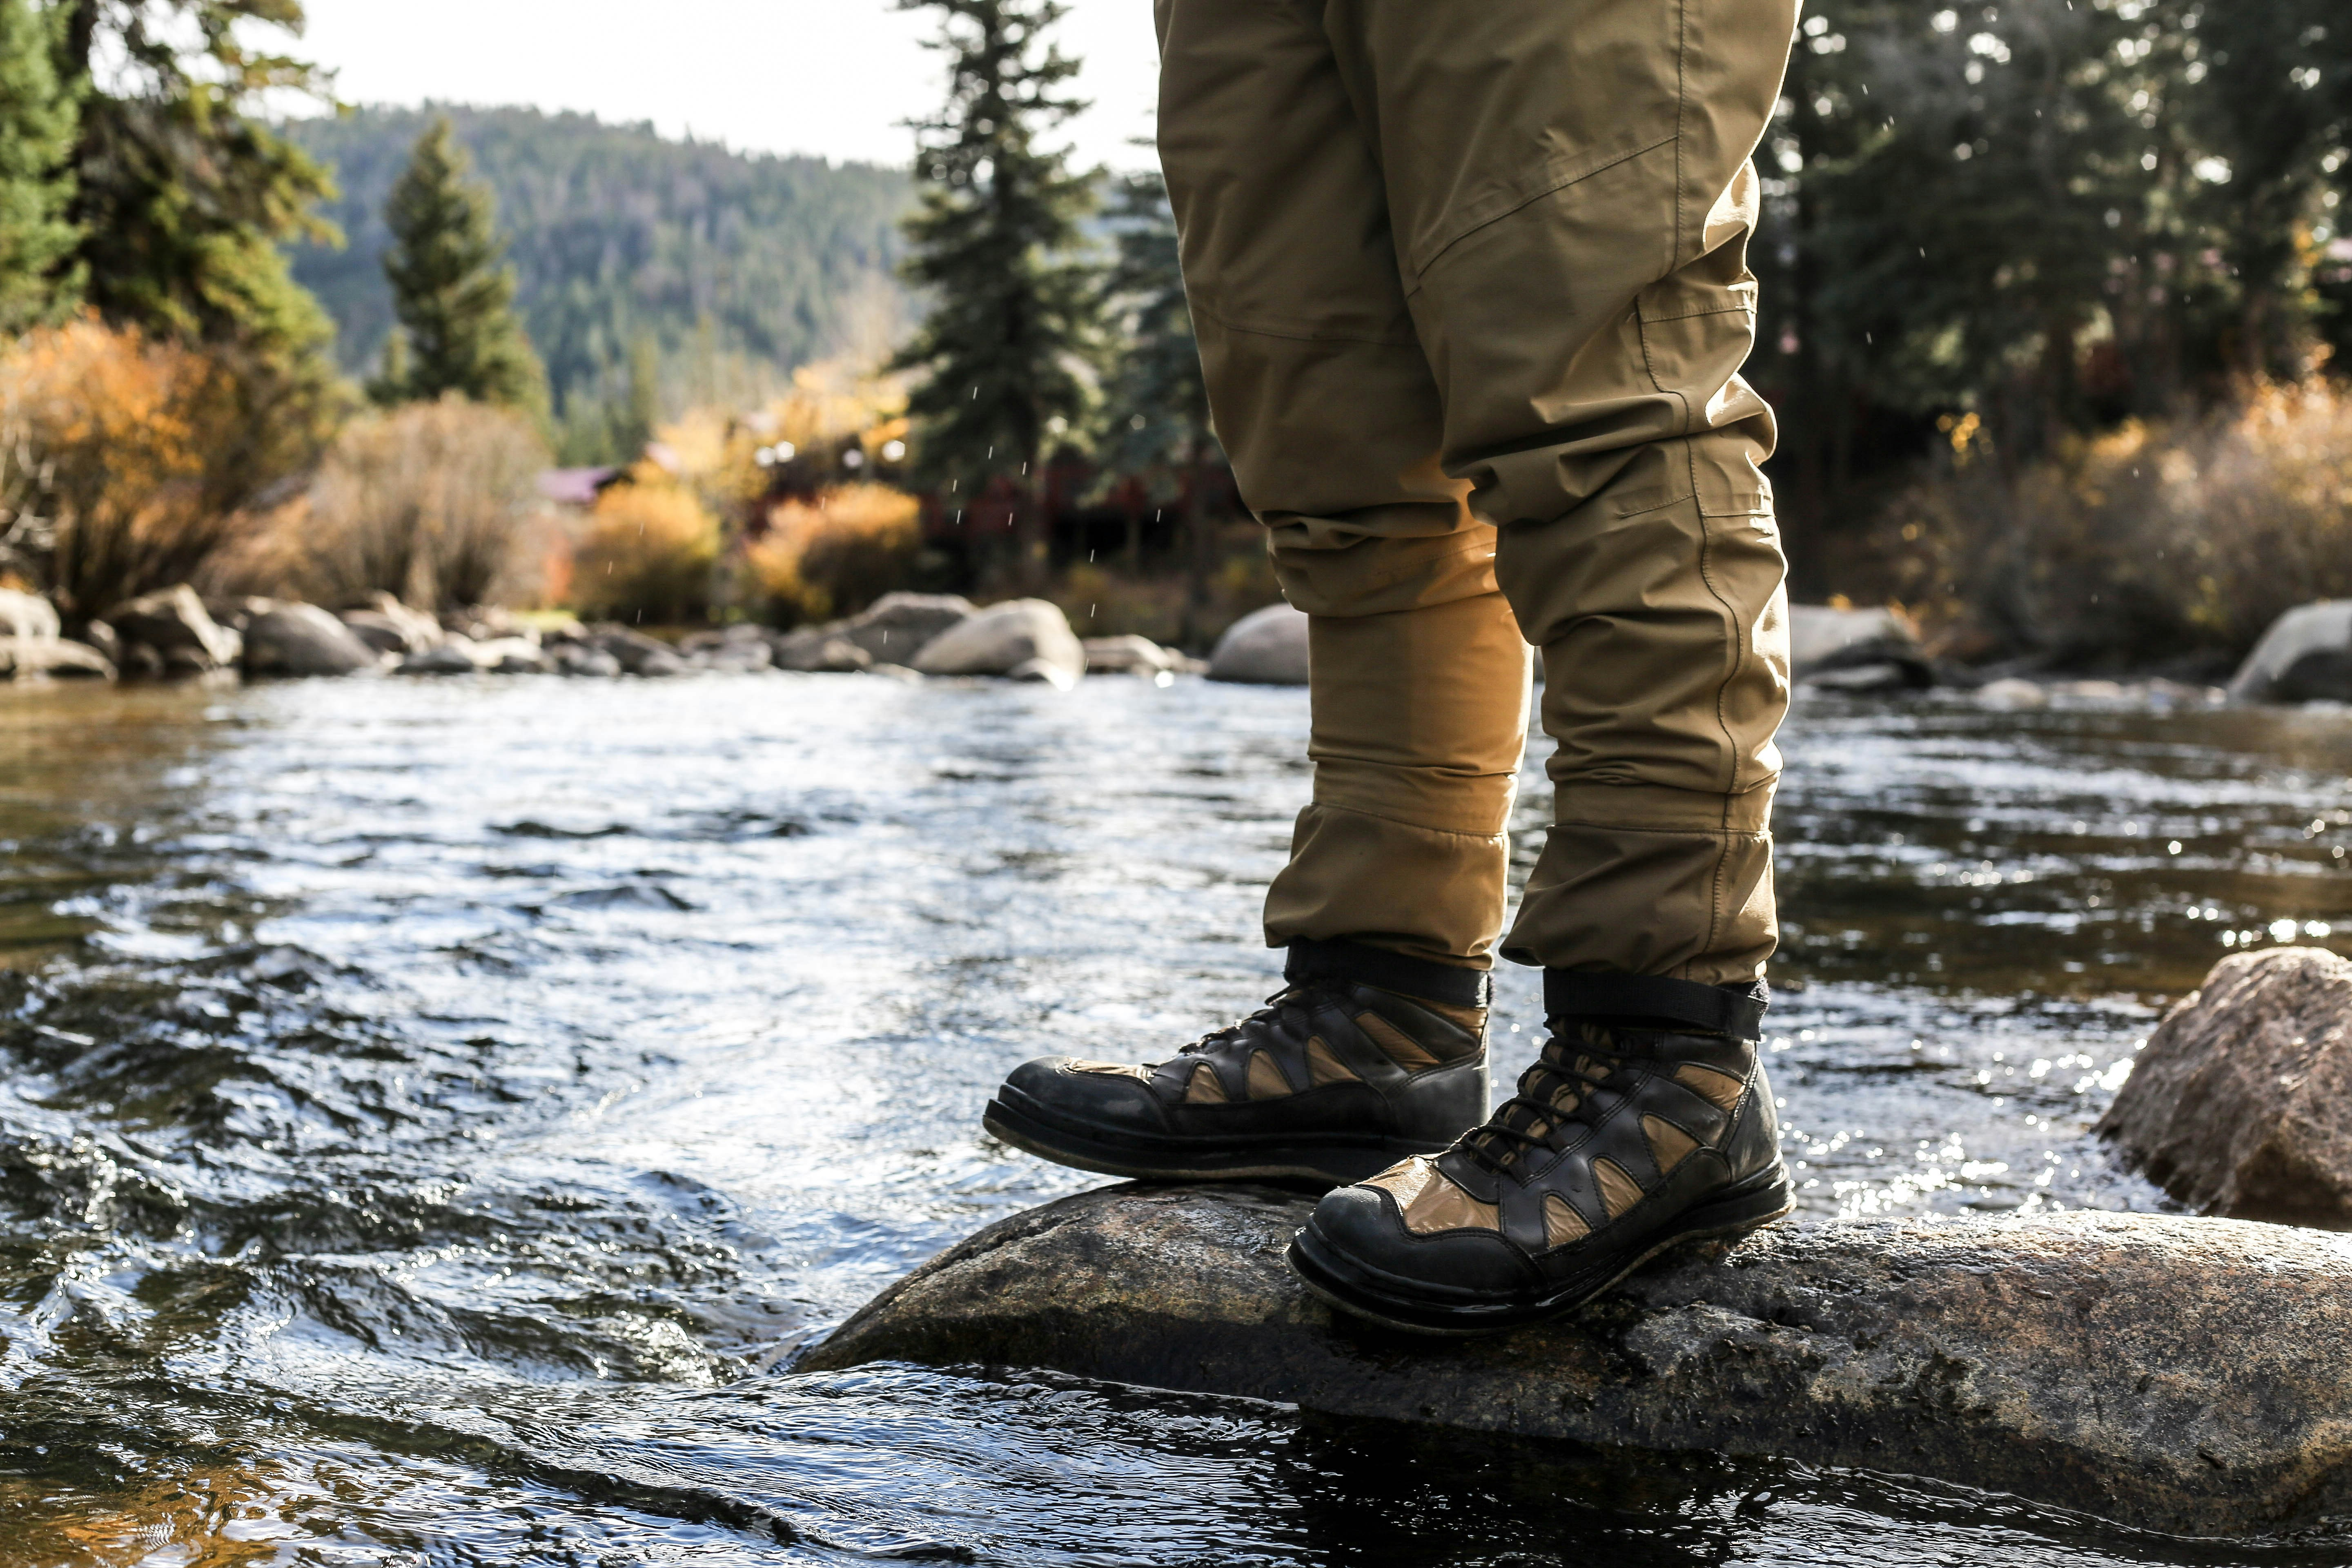Footwear: (1244, 1031, 1850, 1353), (870, 985, 1496, 1190)
